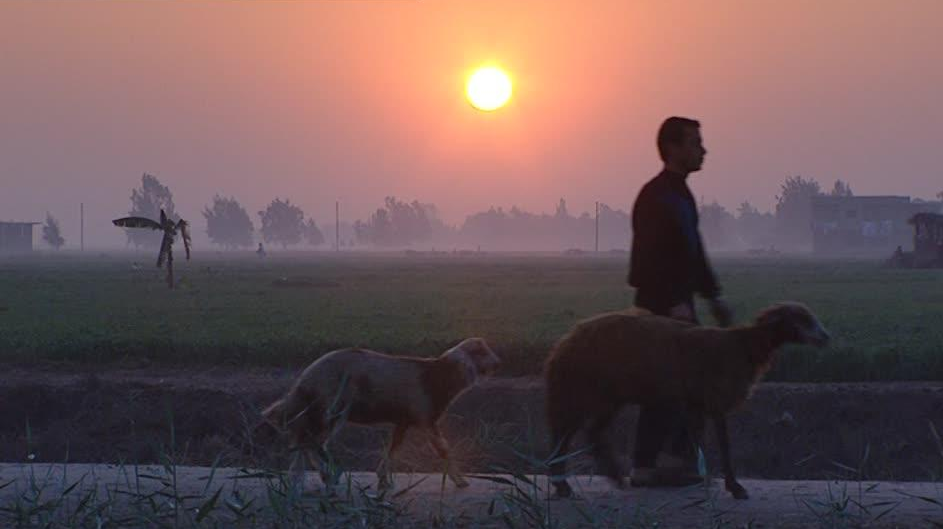airplane: (755, 184, 931, 271), (111, 210, 191, 260), (140, 205, 189, 282), (137, 206, 197, 244), (152, 208, 190, 259), (109, 209, 183, 234), (112, 213, 166, 230)
bear: (533, 288, 827, 490), (248, 323, 504, 474)
bench: (306, 323, 758, 521), (542, 287, 843, 493), (246, 330, 506, 493), (407, 366, 639, 497)
bicycle: (246, 330, 506, 493)
bird: (516, 288, 815, 489), (245, 325, 504, 487), (371, 368, 533, 489), (111, 210, 191, 260), (137, 206, 197, 244), (156, 206, 190, 261), (109, 209, 183, 234), (143, 208, 179, 259), (170, 209, 193, 255), (112, 213, 166, 230), (158, 206, 183, 242), (158, 208, 175, 258), (177, 219, 192, 259), (158, 205, 174, 231)
boat: (354, 294, 763, 500), (532, 134, 852, 375), (533, 288, 837, 506), (246, 330, 506, 493), (767, 193, 932, 269), (830, 205, 940, 269), (112, 209, 193, 260), (905, 210, 942, 268), (156, 206, 190, 261)
car: (516, 288, 815, 489), (261, 339, 511, 477)
cat: (533, 288, 837, 506), (247, 327, 504, 482)
chair: (251, 337, 506, 507)
cow: (354, 294, 763, 500), (533, 288, 837, 506), (248, 323, 505, 480), (231, 373, 484, 521), (530, 327, 718, 489), (423, 379, 604, 490), (369, 372, 537, 479), (436, 380, 543, 458), (402, 338, 509, 400), (113, 210, 191, 285), (435, 380, 525, 426)
dog: (354, 294, 763, 500), (584, 180, 803, 473), (534, 289, 828, 494), (247, 323, 504, 473), (231, 373, 484, 521), (369, 372, 537, 479), (154, 206, 191, 266), (158, 206, 183, 242)
elephant: (533, 288, 837, 506), (253, 338, 493, 494), (343, 375, 530, 490), (429, 379, 541, 474)
horse: (354, 294, 763, 500), (527, 286, 824, 490), (253, 335, 504, 480), (343, 375, 530, 490), (436, 380, 543, 459), (113, 210, 191, 285), (157, 206, 191, 263), (174, 215, 193, 259)
kite: (113, 209, 193, 266), (111, 191, 186, 247), (138, 208, 189, 290), (112, 218, 161, 262), (138, 207, 174, 266), (115, 216, 179, 248), (110, 209, 183, 236), (133, 211, 193, 243), (152, 206, 184, 264), (131, 222, 187, 253), (109, 202, 172, 227), (156, 224, 178, 289), (163, 207, 190, 257), (112, 214, 165, 231), (158, 206, 183, 242), (178, 218, 191, 260)
person: (532, 134, 852, 375), (533, 288, 837, 506), (584, 180, 803, 473), (524, 182, 745, 425), (560, 130, 724, 353), (262, 339, 504, 483), (595, 165, 788, 312), (626, 115, 733, 326), (113, 210, 191, 285), (140, 208, 188, 261), (156, 205, 179, 267), (156, 223, 177, 290), (169, 212, 193, 260), (160, 206, 190, 244), (163, 210, 180, 256), (154, 209, 169, 261), (157, 227, 174, 266), (159, 244, 174, 288), (159, 208, 175, 249), (158, 205, 181, 233), (178, 219, 191, 259), (155, 207, 173, 230), (255, 241, 268, 264)
potted plant: (255, 327, 595, 512)
sheep: (354, 294, 763, 500), (527, 286, 824, 490), (248, 322, 506, 477), (231, 373, 484, 521), (423, 379, 604, 490), (371, 368, 533, 489), (346, 340, 504, 463), (430, 378, 543, 465), (421, 339, 522, 404), (439, 380, 534, 430)
surfboard: (133, 211, 193, 243), (152, 206, 184, 264), (113, 211, 182, 233), (157, 206, 179, 242)
train: (542, 287, 843, 493), (905, 210, 942, 268)
truck: (795, 203, 934, 268)
umbrella: (516, 288, 815, 489), (109, 209, 183, 234), (112, 213, 166, 230)
zebra: (251, 335, 502, 477)
